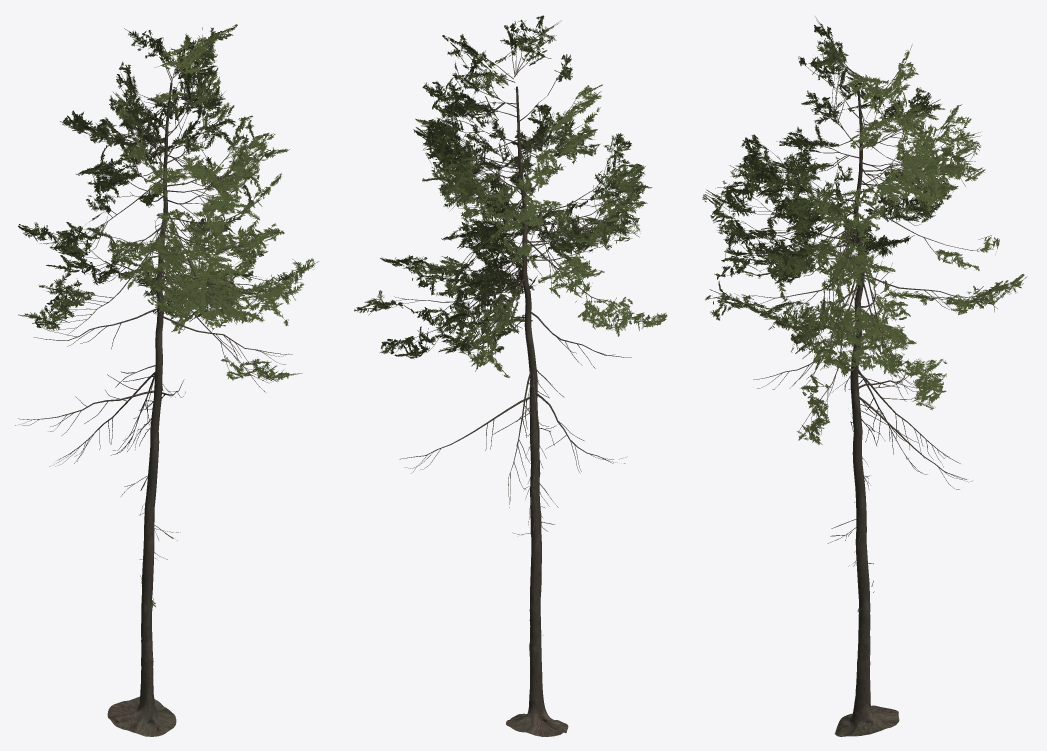
The picture shows the model from 3 angles, left to right: view 1: azimuth 30°, elevation 25°; view 2: azimuth 150°, elevation 25°; view 3: azimuth 270°, elevation 25°; orthographic projection. The views are drawn at different scales.
Visible parts, largest first — view 1: fir_tree_01__c_lod0; view 2: fir_tree_01__c_lod0; view 3: fir_tree_01__c_lod0.
Part boxes in pixels (<box>): fir_tree_01__c_lod0: <box>15,24,318,736</box>; fir_tree_01__c_lod0: <box>354,15,667,736</box>; fir_tree_01__c_lod0: <box>702,16,1027,736</box>.
Bounding box in the file's own units: 6.42 × 14.54 × 6.11.
2 materials, 2 textured.
